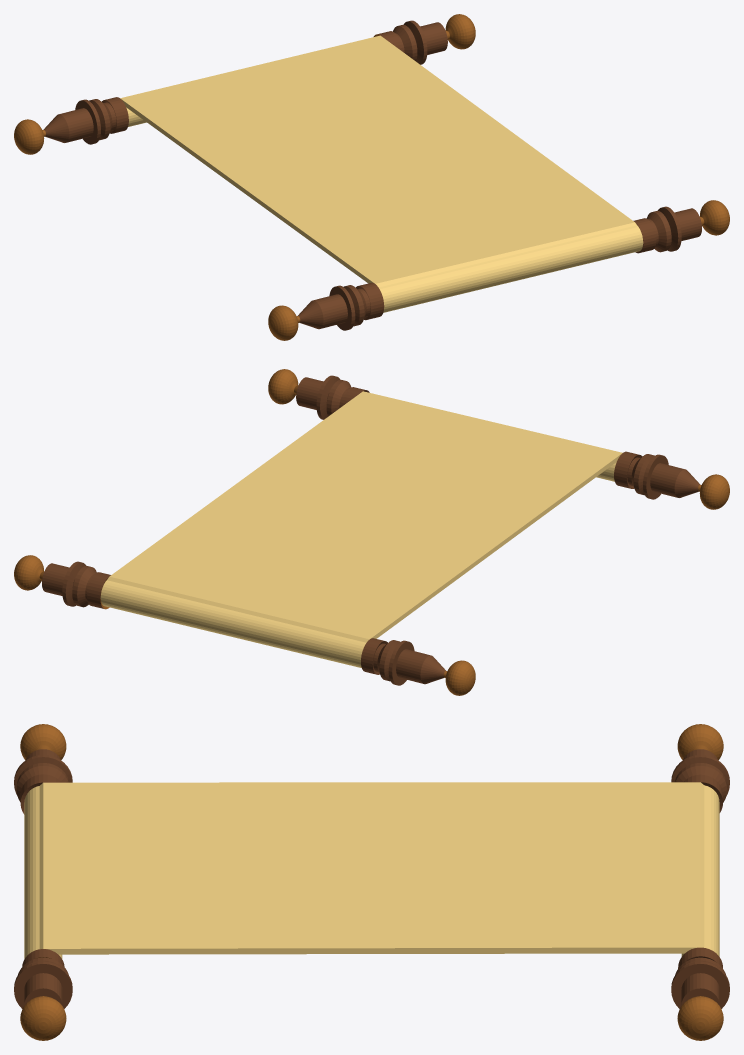
Rendered from pergamino.fbx.
3 renders of one model, top to bottom at view 1: azimuth 30°, elevation 25°; view 2: azimuth 150°, elevation 25°; view 3: azimuth 270°, elevation 25°, orthographic. The views are drawn at different scales.
Parts seen in each view (by area): view 1: Sphere; view 2: Sphere; view 3: Sphere.
Boxes of the visible parts, <box> form: Sphere: <box>14,14,729,340</box>; Sphere: <box>14,369,729,695</box>; Sphere: <box>14,724,729,1040</box>.
Bounding box in the file's own units: 1237 × 109 × 1301.
